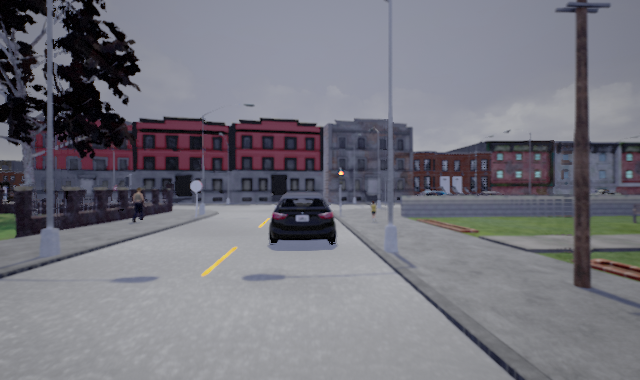pedestrian: (127, 185, 147, 222), (369, 200, 379, 223)
vehicle: (267, 191, 336, 245)
